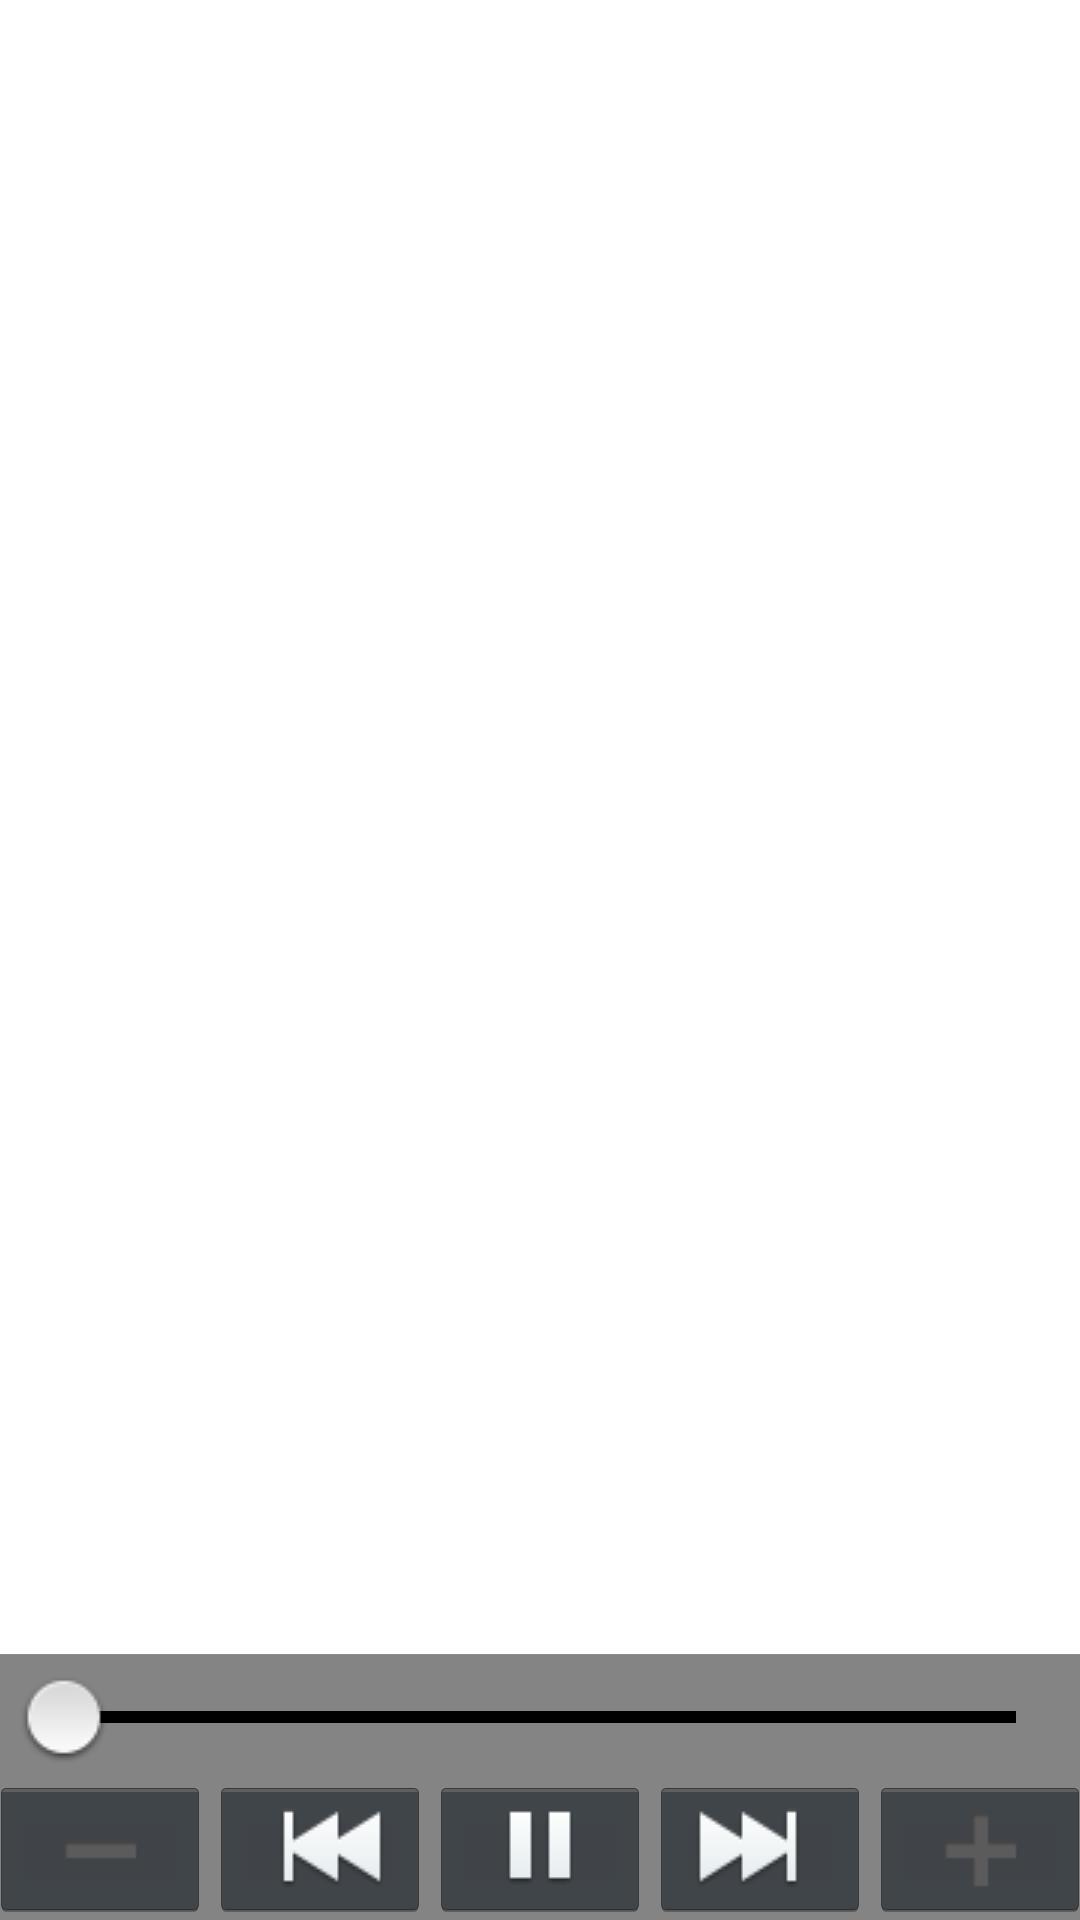

Locate icon controls on the screen. Image size 1080*1920, boxes as (x1, y1, x2, y2).
movie ctrlbar next: (661, 1788, 859, 1912)
movie ctrlbar pause: (441, 1788, 639, 1912)
movie ctrlbar prev: (221, 1788, 419, 1912)
vol down: (1, 1788, 199, 1912)
vol up: (881, 1788, 1079, 1912)
